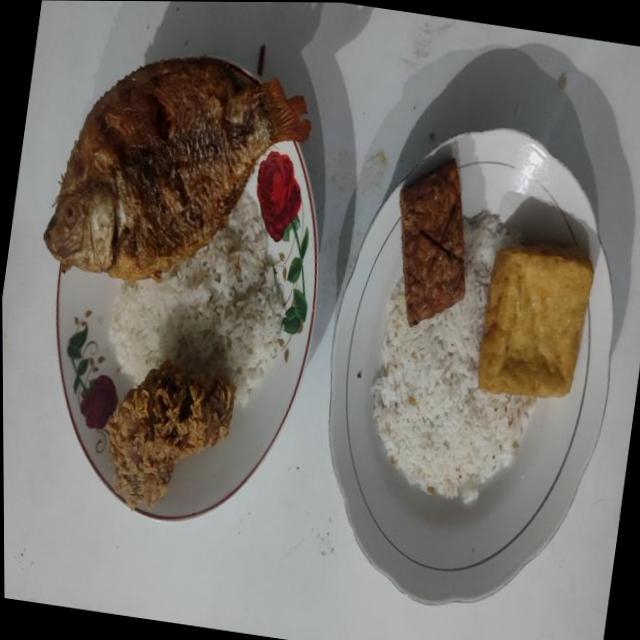ikan_mujair: (44, 57, 311, 280)
nasi_putih: (372, 210, 536, 502), (110, 192, 284, 405)
tahu_goreng: (478, 245, 594, 398)
tempe_goreng: (400, 159, 465, 327)
